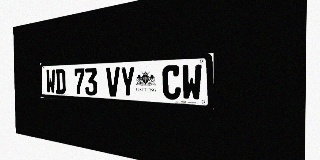3: (85, 68, 97, 96)
7: (73, 68, 85, 95)
C: (162, 65, 181, 100)
D: (55, 69, 66, 94)
V: (106, 67, 120, 97)
W: (182, 64, 202, 101), (46, 69, 55, 94)
Y: (120, 66, 135, 98)
